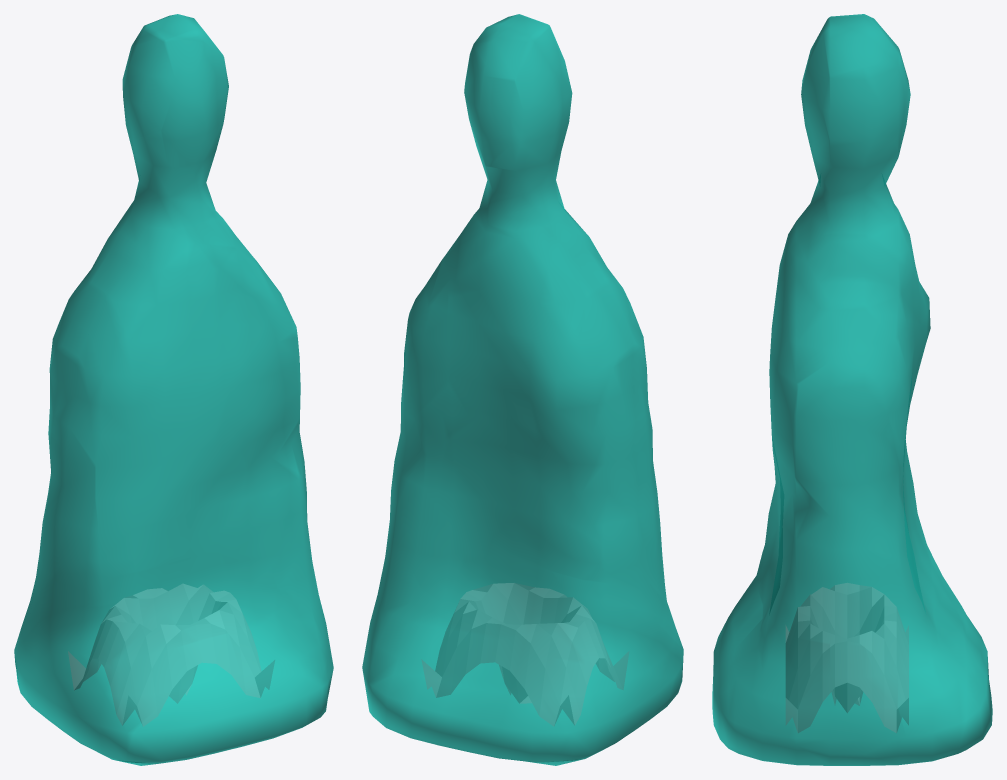
3 views of the same model, side by side, from view 1: azimuth 30°, elevation 25°; view 2: azimuth 150°, elevation 25°; view 3: azimuth 270°, elevation 25° (orthographic).
Parts seen in each view (by area): view 1: Liquid_Domain, グリッド; view 2: Liquid_Domain, グリッド; view 3: Liquid_Domain, グリッド.
Boxes of the visible parts, x1,y1,x2,y2 form: Liquid_Domain: (14, 14, 333, 765); グリッド: (68, 584, 274, 726); Liquid_Domain: (362, 14, 683, 765); グリッド: (421, 583, 628, 725); Liquid_Domain: (712, 14, 992, 765); グリッド: (786, 583, 908, 732).
Size of the model in its own units: 0.7476 by 1.91 by 0.6813.
